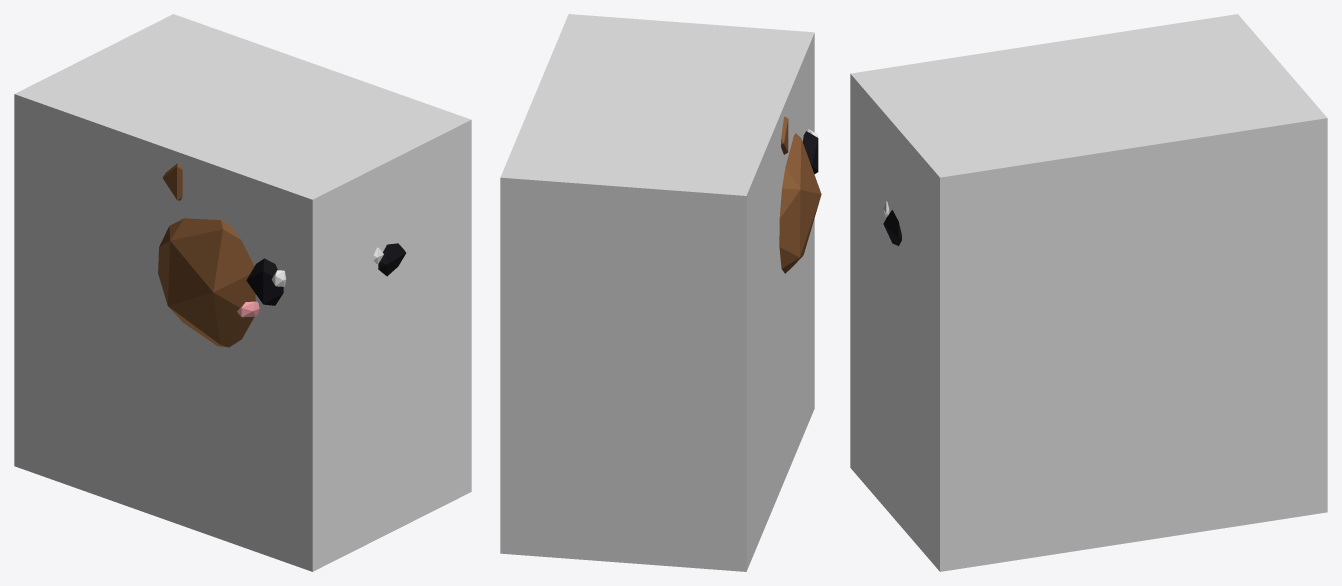
File: plains_pet3.fbx
The picture shows the model from 3 angles, left to right: view 1: azimuth 30°, elevation 25°; view 2: azimuth 150°, elevation 25°; view 3: azimuth 270°, elevation 25°; orthographic projection. The views are drawn at different scales.
Visible parts, largest first — view 1: Root__0.00_0.52_0.00__0.63_1.05_0.99, Head__Body__0.00_0.52_-0.10; view 2: Root__0.00_0.52_0.00__0.63_1.05_0.99, Head__Body__0.00_0.52_-0.10; view 3: Root__0.00_0.52_0.00__0.63_1.05_0.99.
Boxes of the visible parts, <box> form: Root__0.00_0.52_0.00__0.63_1.05_0.99: <box>14,14,471,571</box>; Head__Body__0.00_0.52_-0.10: <box>158,163,405,347</box>; Root__0.00_0.52_0.00__0.63_1.05_0.99: <box>500,14,814,571</box>; Head__Body__0.00_0.52_-0.10: <box>779,116,821,273</box>; Root__0.00_0.52_0.00__0.63_1.05_0.99: <box>850,14,1327,571</box>.
Size of the model in its own units: 26.05 by 29.46 by 32.09.
1 material, 1 textured.
